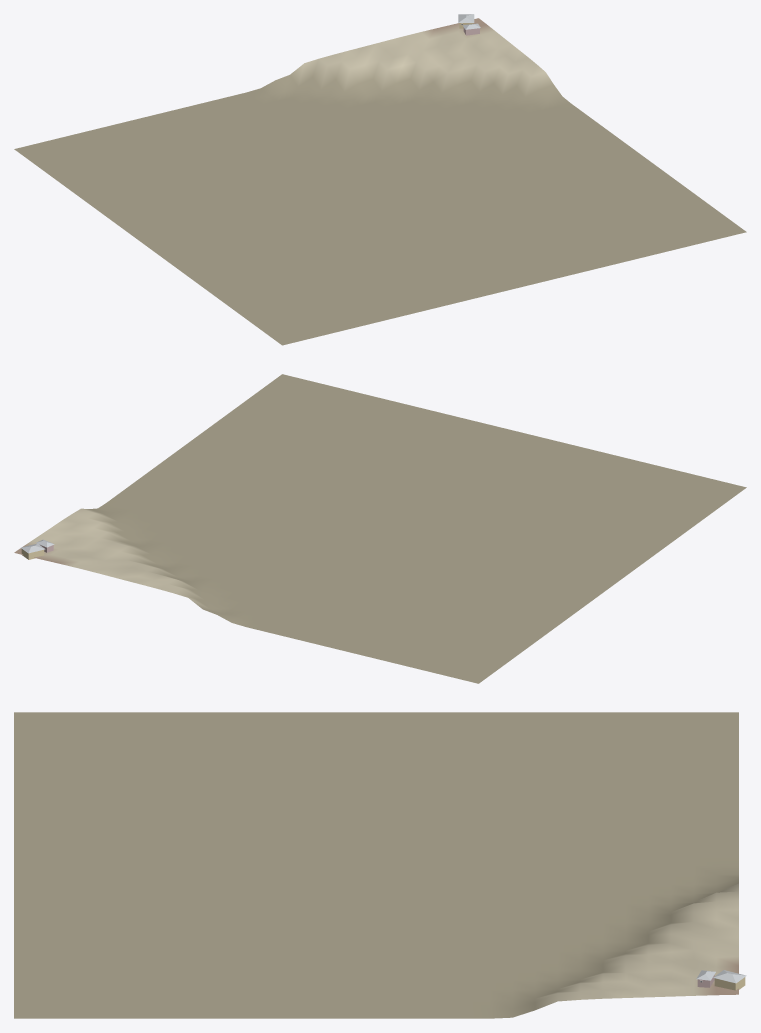
3 views of the same model, one above another, from view 1: azimuth 30°, elevation 25°; view 2: azimuth 150°, elevation 25°; view 3: azimuth 270°, elevation 25° (orthographic). The views are drawn at different scales.
Parts seen in each view (by area): view 1: Terrain-col; view 2: Terrain-col; view 3: Terrain-col, Buildings-col.
Part boxes in pixels (<box>): Terrain-col: <box>14,18,746,345</box>; Terrain-col: <box>14,374,746,683</box>; Terrain-col: <box>14,712,738,1018</box>; Buildings-col: <box>696,970,746,990</box>.
Bounding box in the file's own units: 256 × 13.53 × 259.
